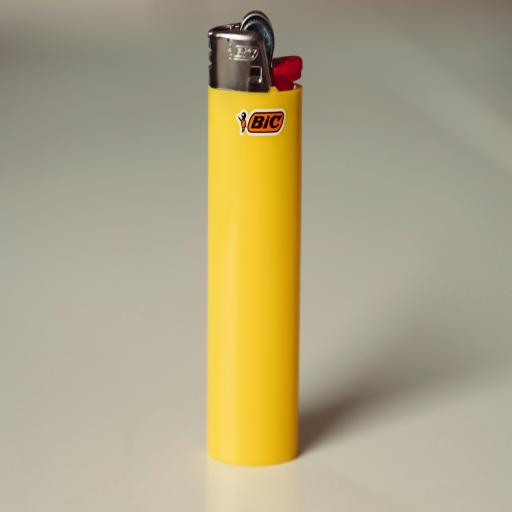lighter: (192, 5, 312, 477)
